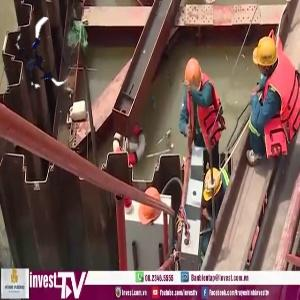drone: (7, 26, 77, 96)
